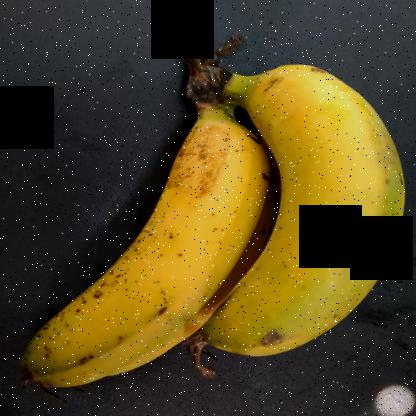freshripe: (211, 64, 415, 392)
ripe: (0, 113, 256, 413)
